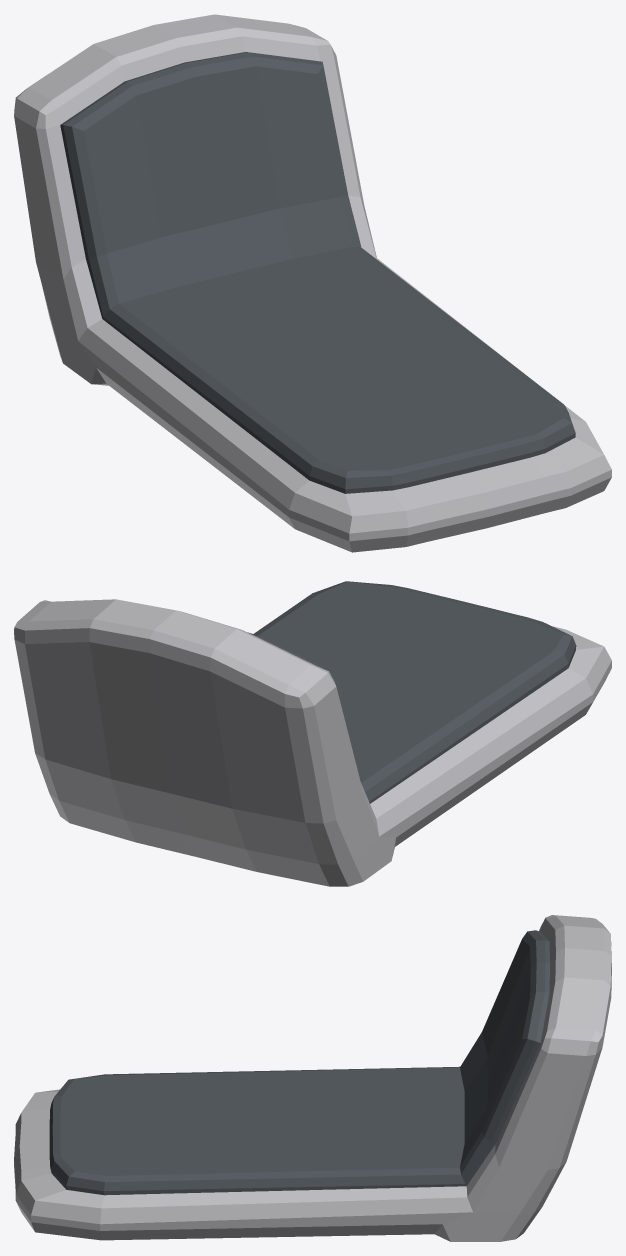
File: Personal_Vehicle_04_Seat.fbx
3 renders of one model, top to bottom at view 1: azimuth 30°, elevation 25°; view 2: azimuth 150°, elevation 25°; view 3: azimuth 270°, elevation 25°, orthographic. The views are drawn at different scales.
Visible parts, largest first — view 1: Personal_Vehicle_04_Seat; view 2: Personal_Vehicle_04_Seat; view 3: Personal_Vehicle_04_Seat.
Boxes of the visible parts, x1=… form: Personal_Vehicle_04_Seat: x1=14, y1=14, x2=611, y2=552; Personal_Vehicle_04_Seat: x1=14, y1=581, x2=611, y2=886; Personal_Vehicle_04_Seat: x1=14, y1=915, x2=611, y2=1241.
Size of the model in its own units: 43.57 by 36.77 by 84.59.
1 material, 1 textured.
